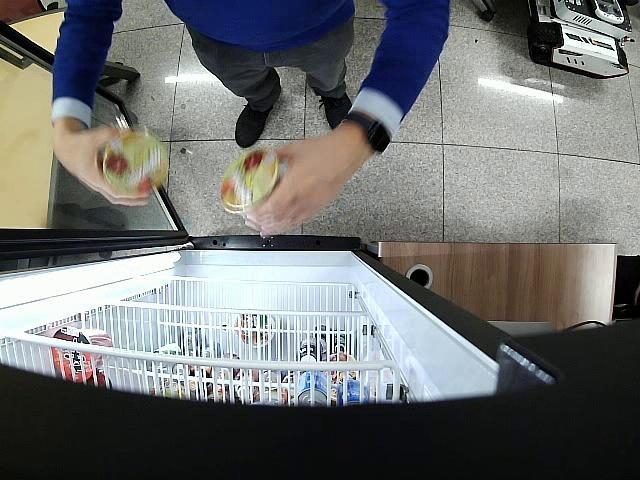04_chapagetti_S: (220, 147, 286, 214), (102, 130, 168, 194)
